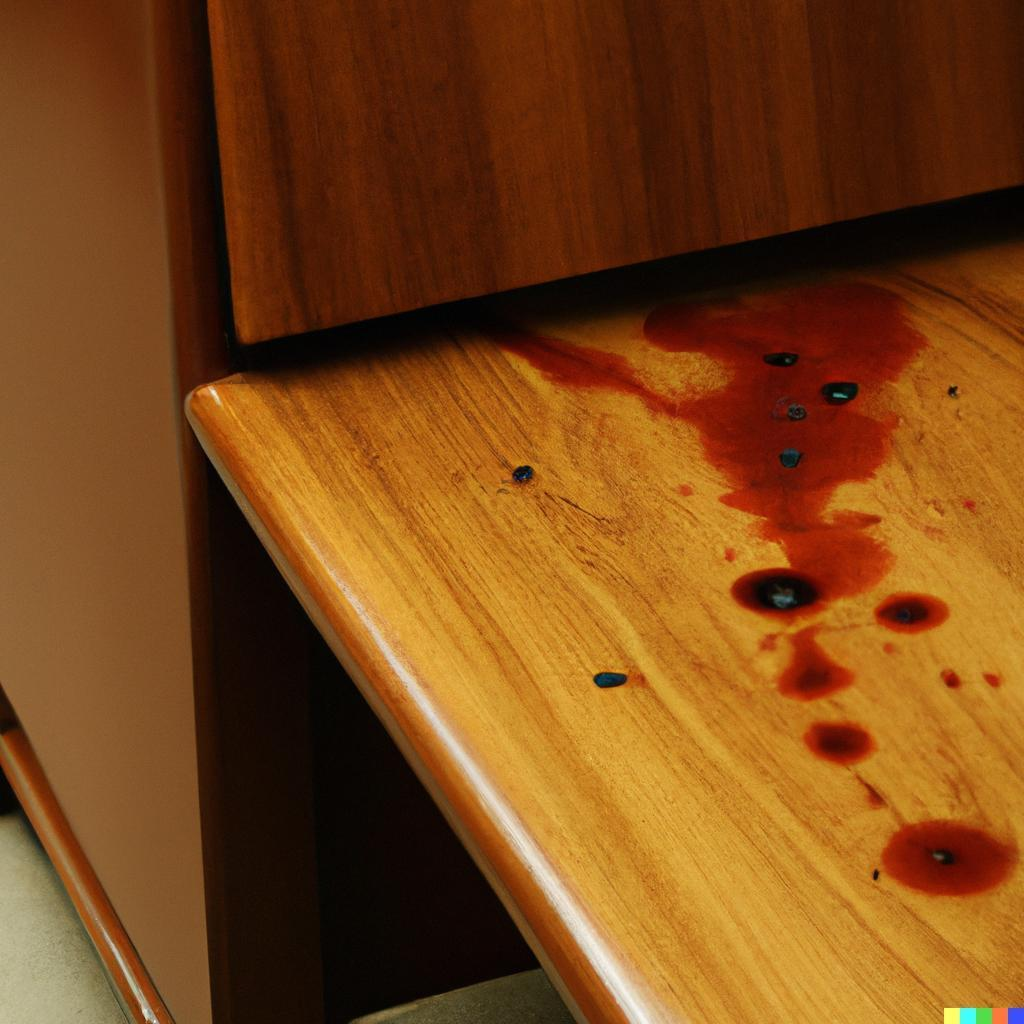Bloodstain-Detection: (656, 308, 912, 496), (882, 822, 1010, 901), (748, 556, 832, 624), (810, 718, 870, 761), (882, 590, 947, 629)
